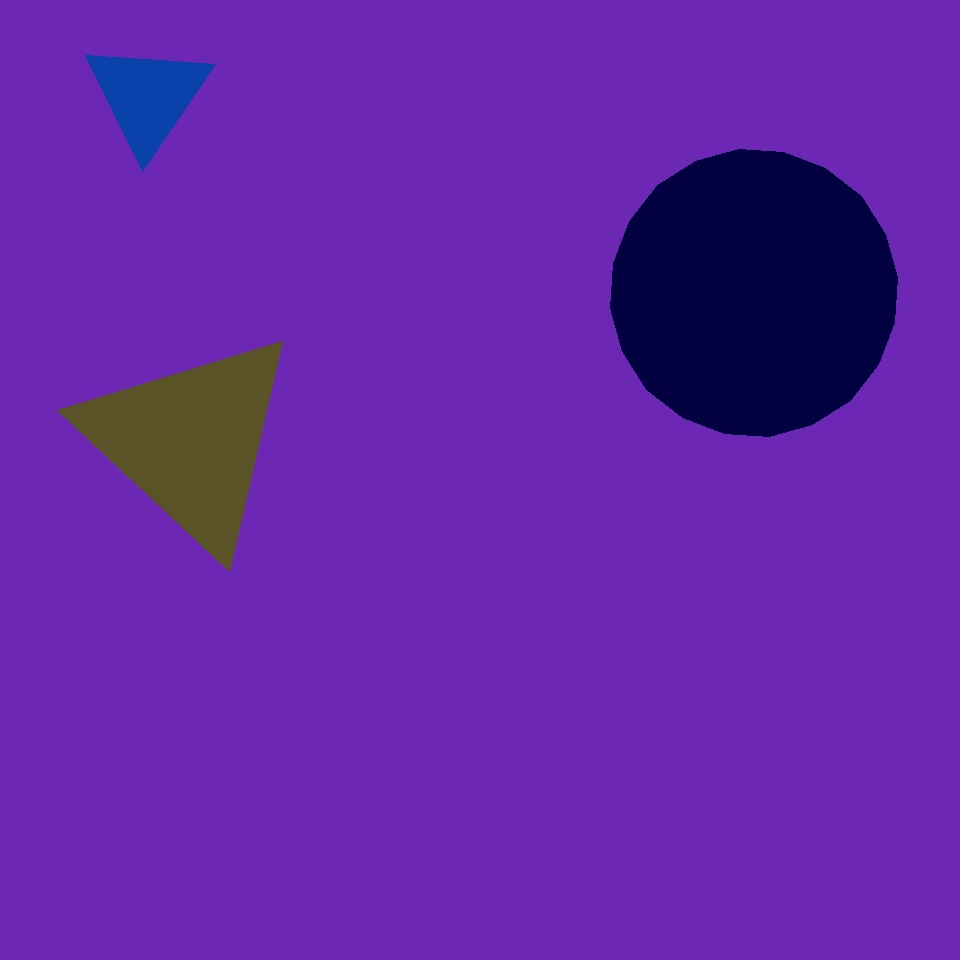circle: (295, 211, 573, 484), (77, 326, 302, 556), (83, 39, 213, 155), (604, 545, 713, 653)
square: (455, 545, 743, 833)
triangle: (610, 150, 897, 436), (325, 750, 481, 905)
